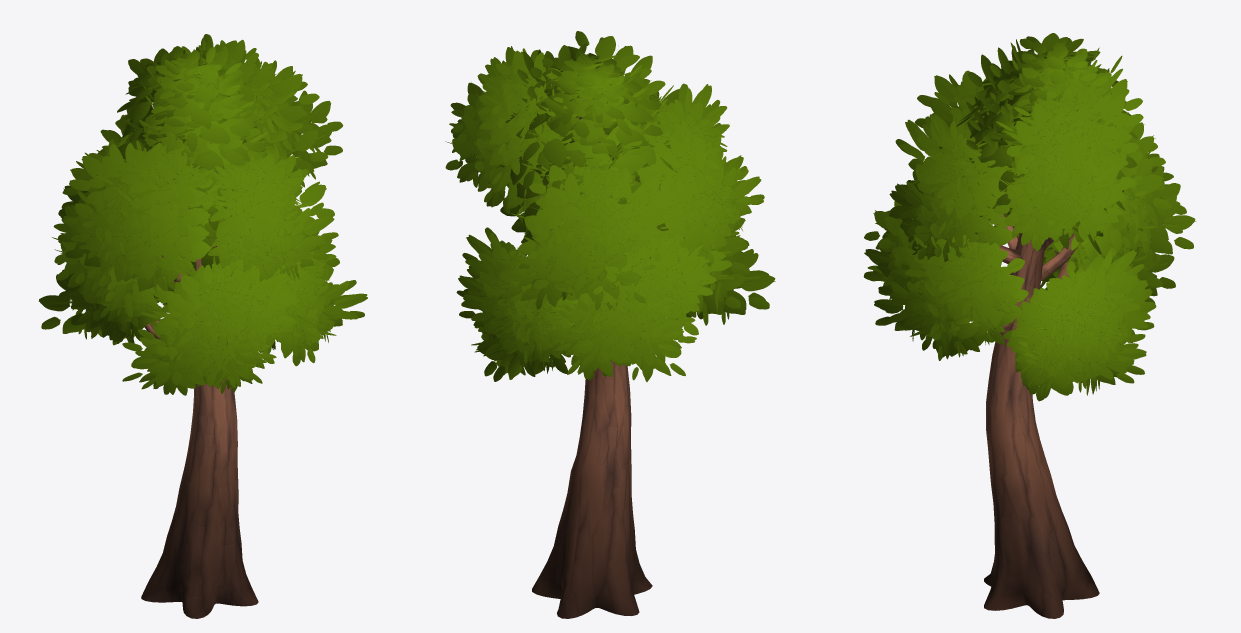
File: common_tree_1.glb
3 renders of one model, left to right at view 1: azimuth 30°, elevation 25°; view 2: azimuth 150°, elevation 25°; view 3: azimuth 270°, elevation 25°, orthographic. The views are drawn at different scales.
Parts seen in each view (by area): view 1: CommonTree_1; view 2: CommonTree_1; view 3: CommonTree_1.
Boxes of the visible parts, left/top/right/bottom form: CommonTree_1: left=38, top=34, right=367, bottom=618; CommonTree_1: left=445, top=31, right=775, bottom=618; CommonTree_1: left=863, top=33, right=1196, bottom=618.
Size of the model in its own units: 4.31 by 7.26 by 4.58.
Materials: 2 (2 with a texture image).
